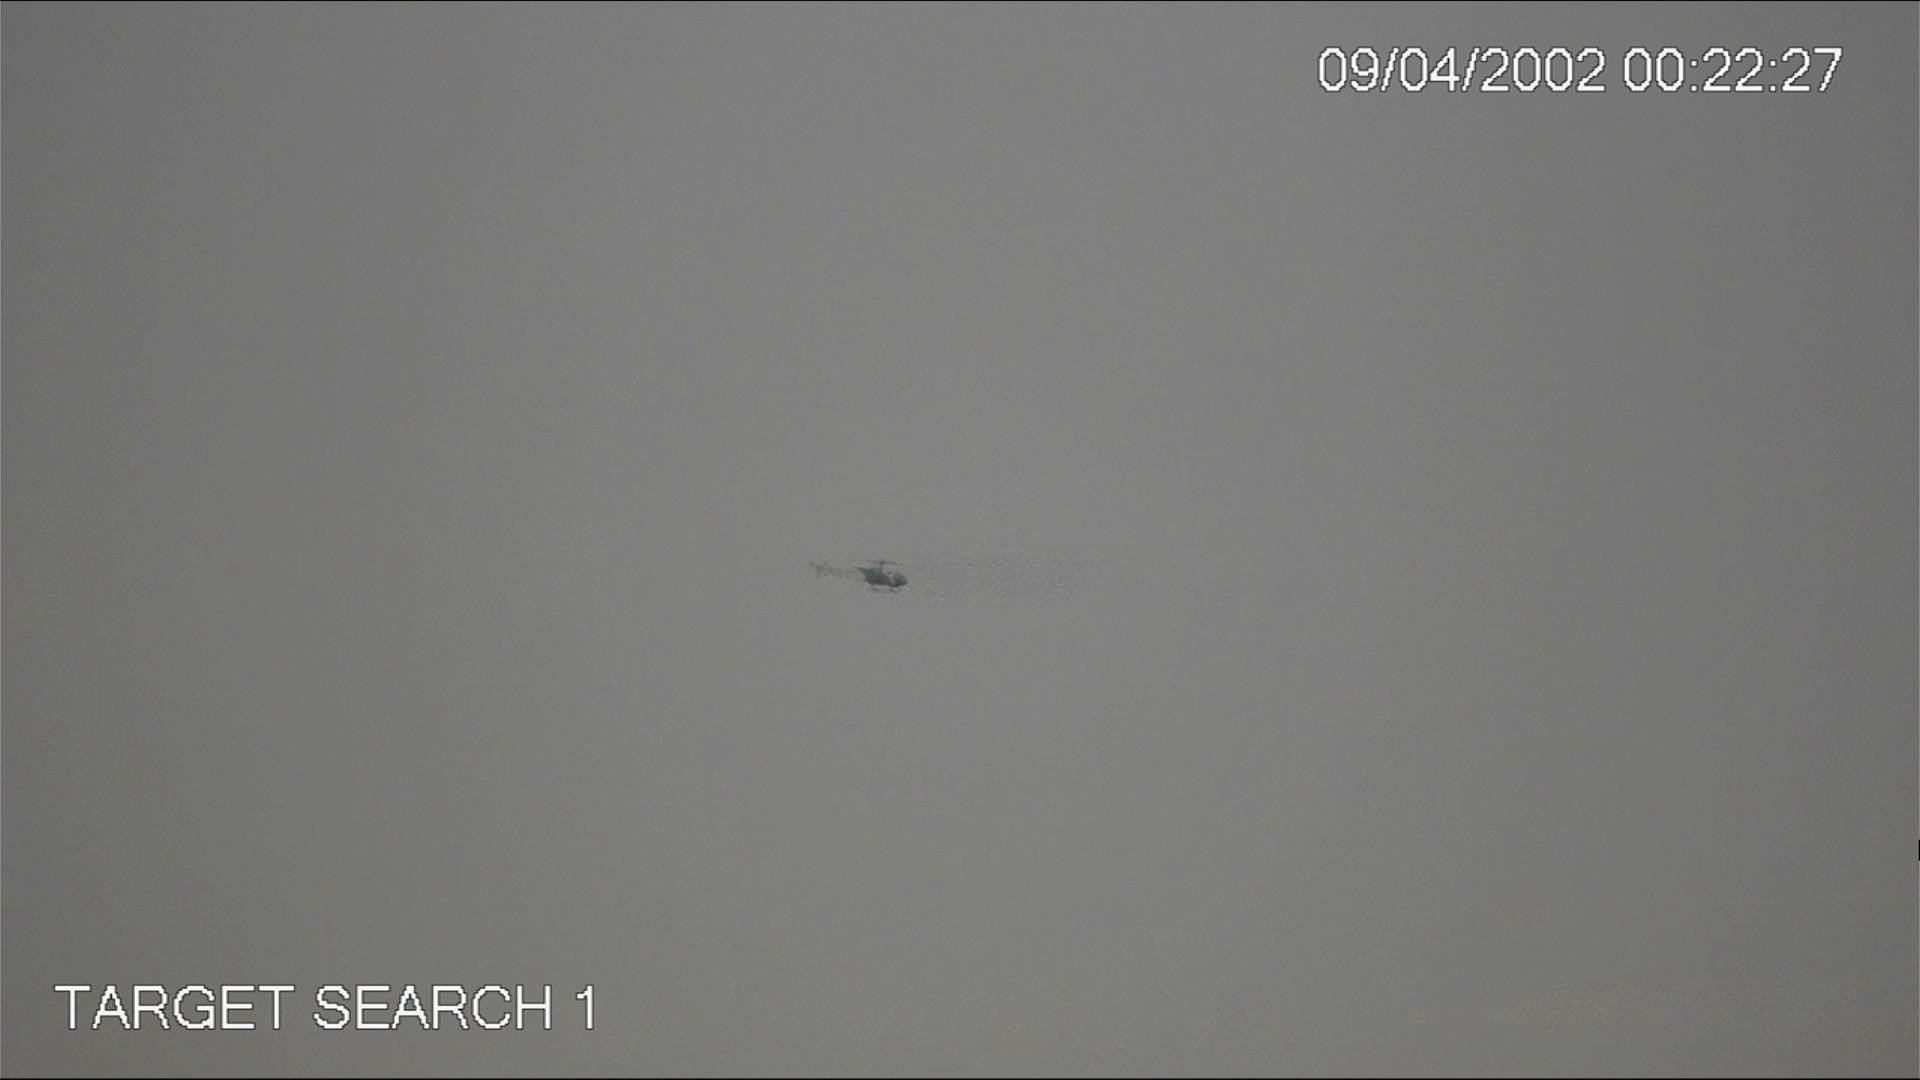SU_30: (804, 546, 913, 599)
